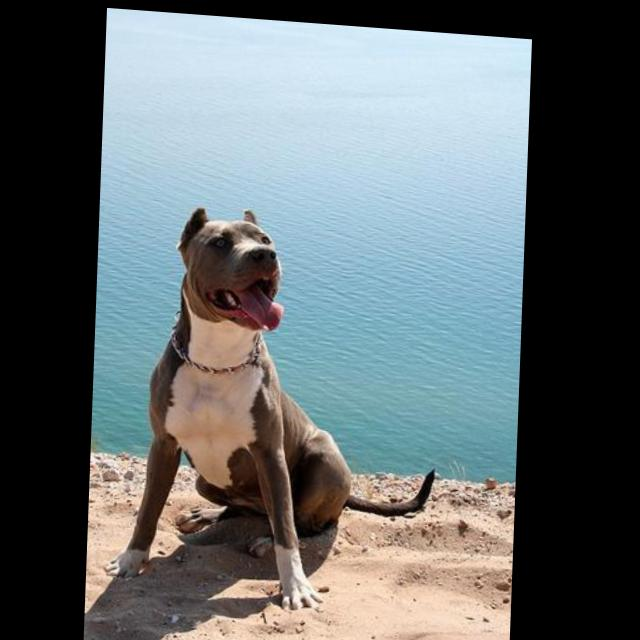amstaff: (109, 196, 451, 614)
